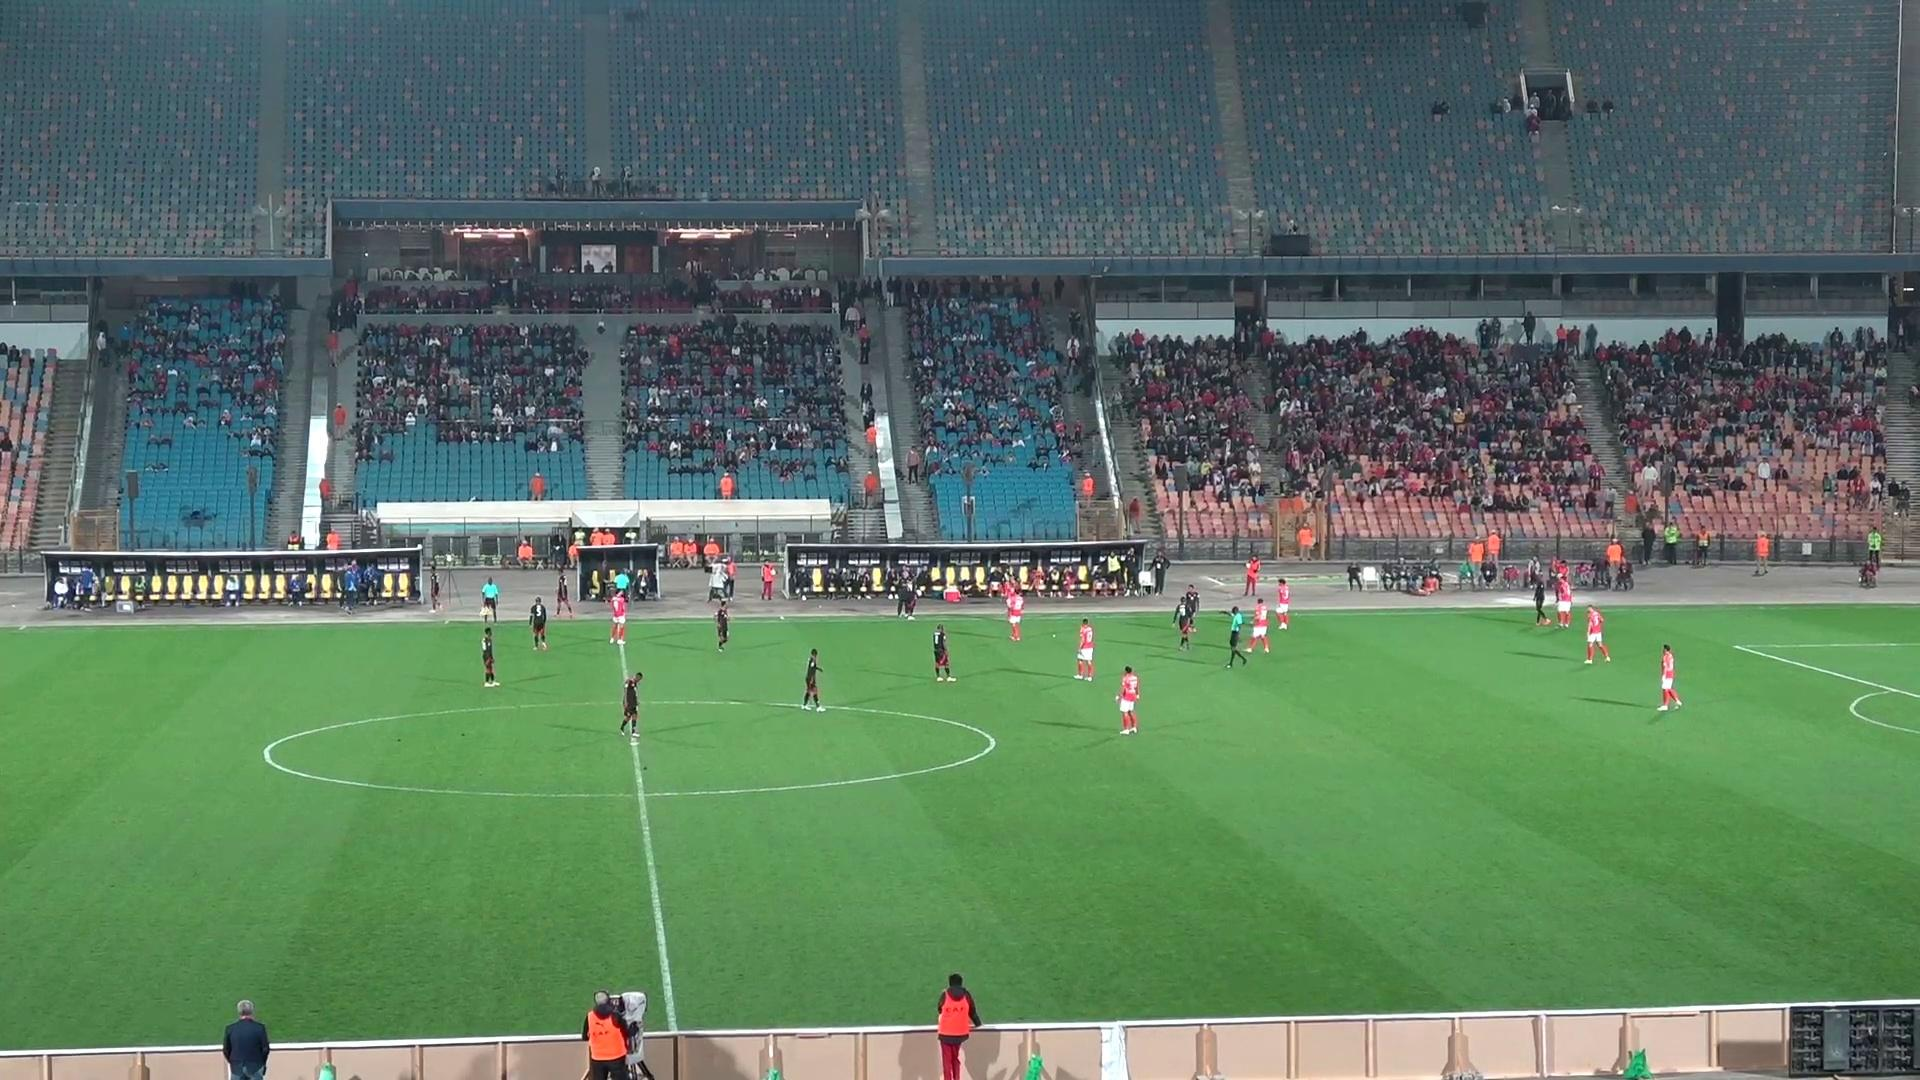Refree: (1224, 607, 1257, 667), (479, 576, 502, 622)
Team1: (1114, 665, 1141, 735), (1655, 645, 1683, 709), (1255, 579, 1290, 630), (1584, 604, 1610, 665), (1172, 589, 1199, 650), (1247, 597, 1274, 651), (1001, 582, 1025, 641), (607, 589, 630, 646), (1073, 618, 1095, 680), (1553, 567, 1573, 626)
Team2: (1526, 560, 1551, 625), (930, 622, 956, 680), (799, 647, 823, 711), (618, 673, 642, 736), (477, 625, 498, 686), (527, 597, 550, 649), (555, 567, 578, 618), (712, 603, 733, 650), (1179, 584, 1199, 613)
